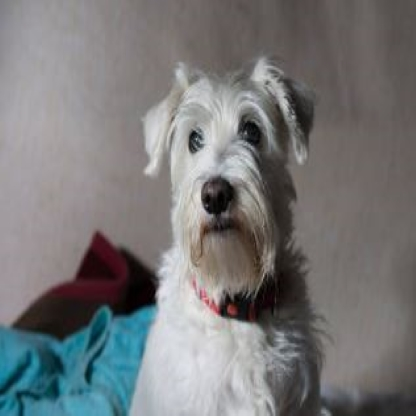maltese: (133, 59, 326, 412)
